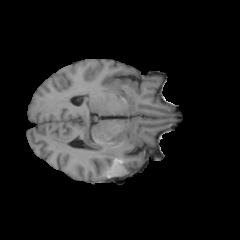glioma: (86, 135, 130, 178)
